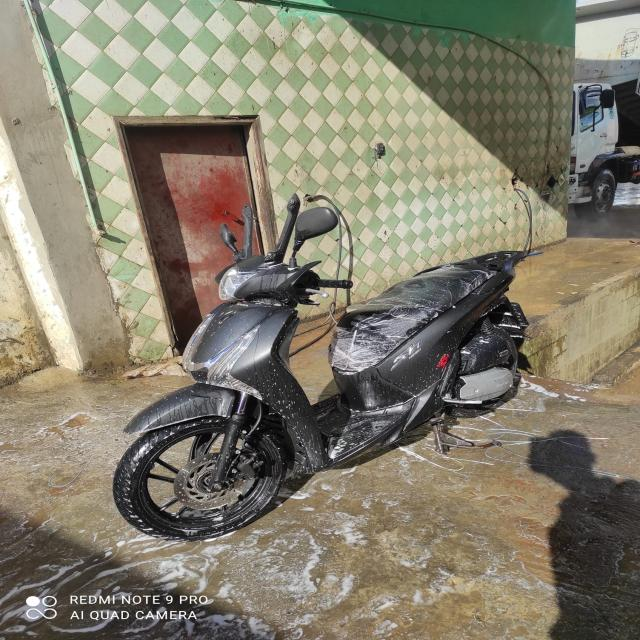Motorcycle: (113, 195, 531, 541)
